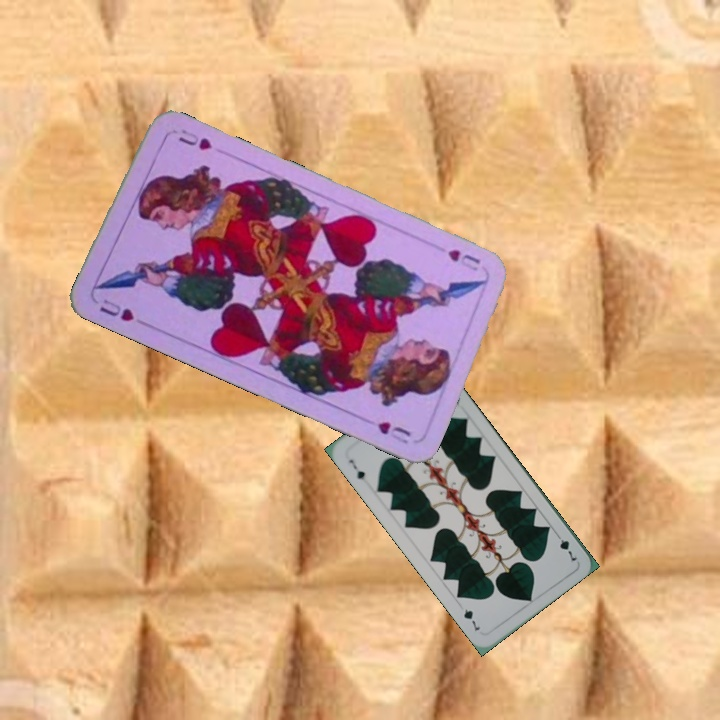G7: (551, 528, 579, 564), (345, 455, 369, 486)
HU: (95, 294, 137, 324), (443, 245, 483, 274)
